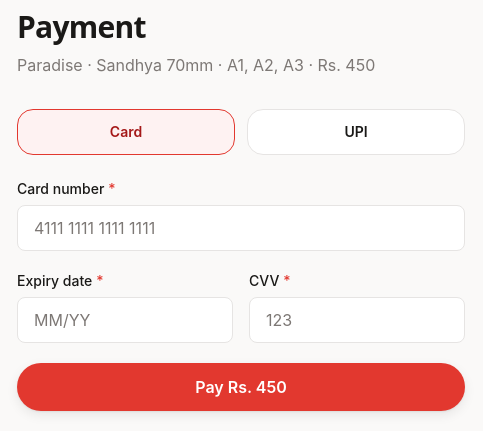
PaymentPage › switches to the UPI field when UPI is selected
The image size is (483, 431).
Click the button "UPI".
click(356, 132)  # box top-left (247, 109), bottom-right (465, 155)
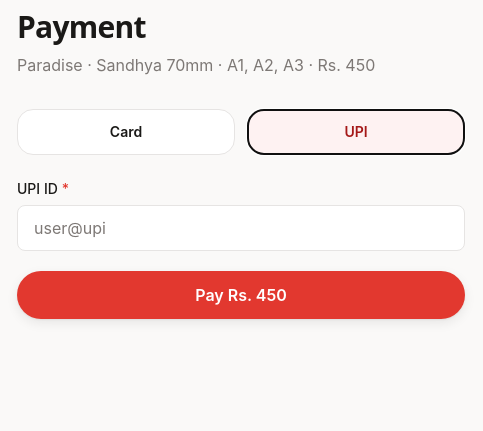
Check: the field labelled "UPI ID*" is shown, box top-left (17, 205), bottom-right (465, 251)
Check: the label labelled "Card number" is gone
